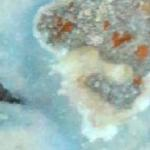alive: (18, 5, 147, 145)
